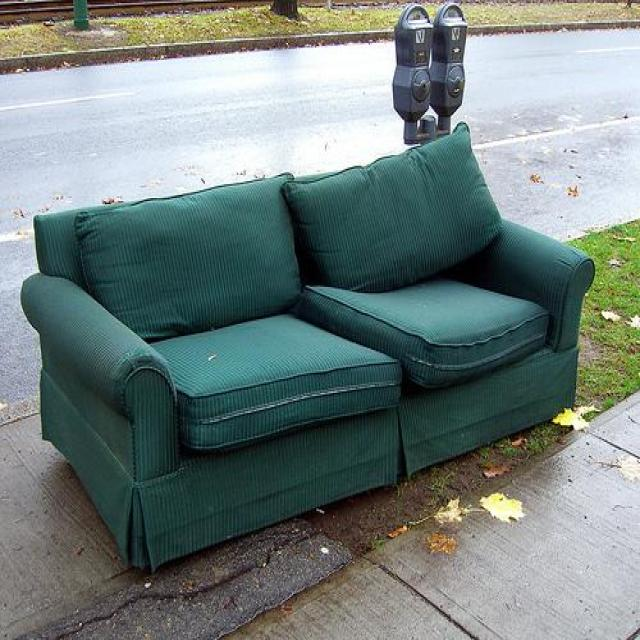sofa: (23, 127, 596, 576)
